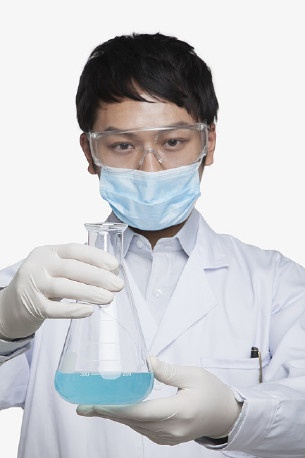Mask: (93, 119, 204, 229)
